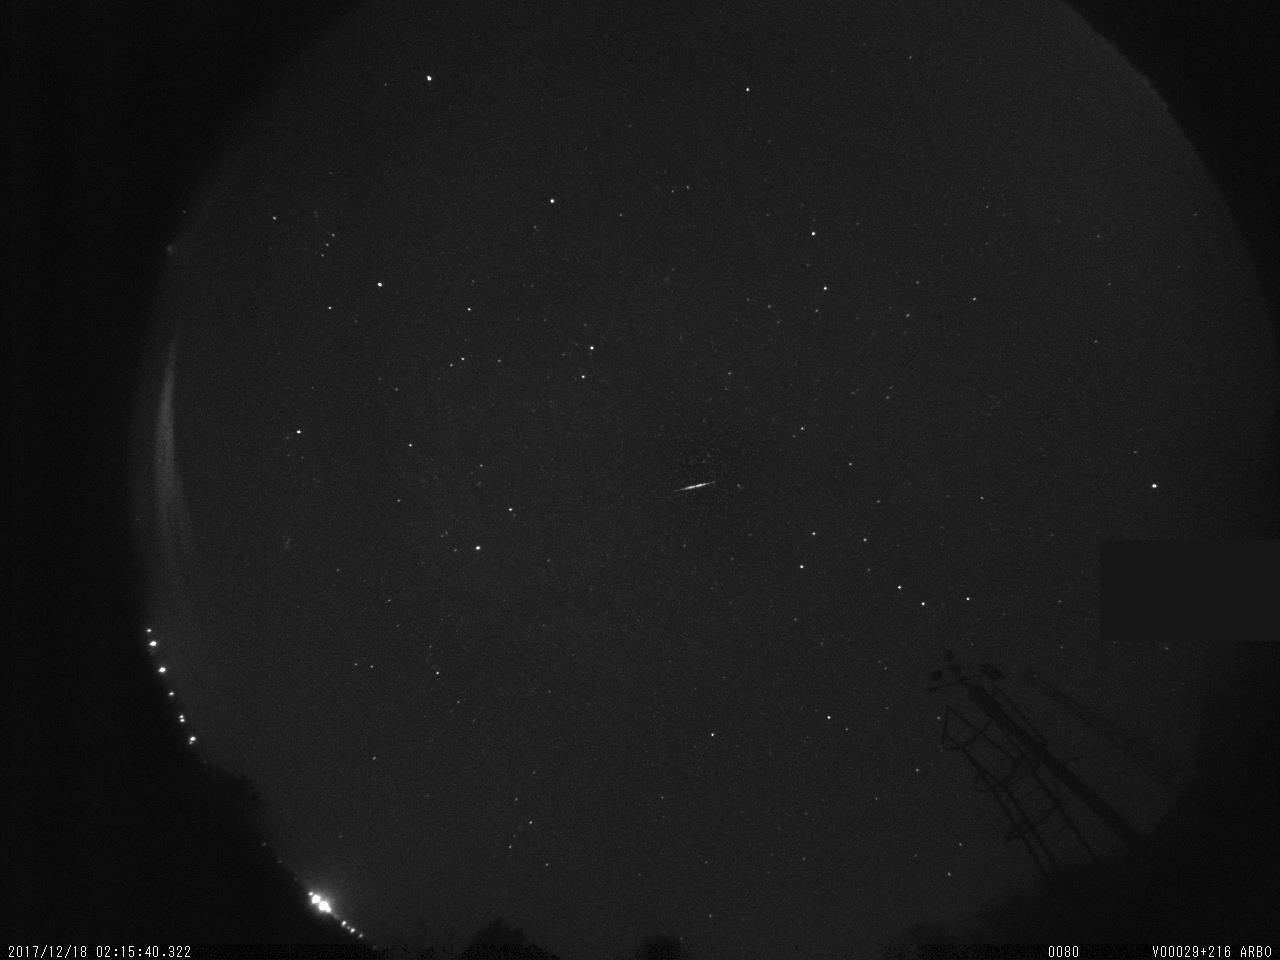meteor: (671, 471, 722, 503)
